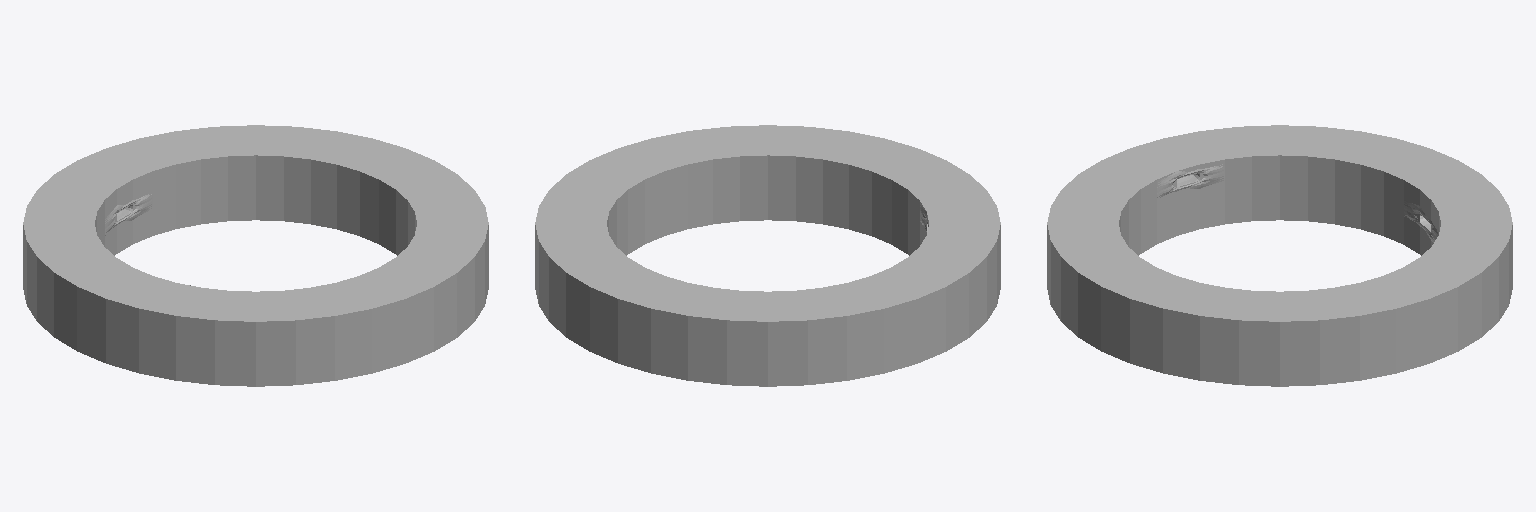
The model's file is combined.obj.
3 views of the same model, side by side, from view 1: azimuth 30°, elevation 25°; view 2: azimuth 150°, elevation 25°; view 3: azimuth 270°, elevation 25° (orthographic).
Visible parts, largest first — view 1: _0000, _0002; view 2: _0000; view 3: _0000, _0003, _0002.
Part boxes in pixels (left/top/right/bottom): _0000: left=23, top=125, right=488, bottom=386; _0002: left=105, top=192, right=152, bottom=235; _0000: left=535, top=125, right=1000, bottom=386; _0000: left=1047, top=125, right=1512, bottom=386; _0003: left=1157, top=164, right=1224, bottom=198; _0002: left=1404, top=200, right=1438, bottom=242.
Bounding box in the file's own units: 13 × 2 × 13.